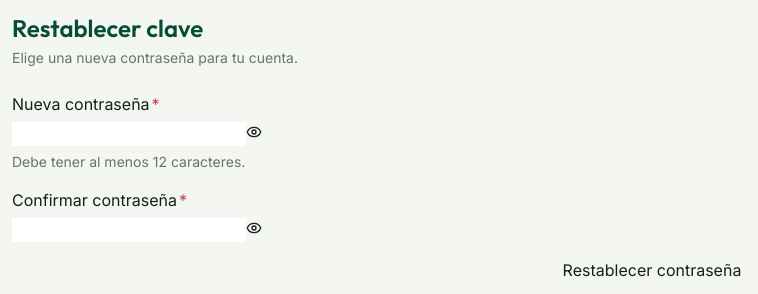
Test: ResetPasswordPage › supports password visibility toggles on both fields
The image size is (758, 294).
Expected: the heading "Restablecer clave" is shown, left=12, top=13, right=203, bottom=43
Click the 1st button named "Mostrar contraseña" at [254, 132], box left=246, top=124, right=262, bottom=140
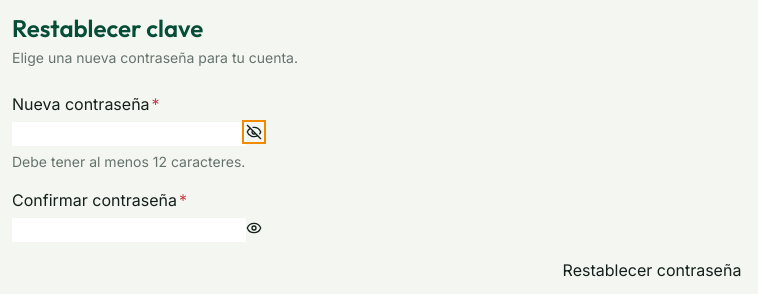
Expected: the field labelled "Nueva contraseña" shows its text, left=12, top=122, right=246, bottom=146
